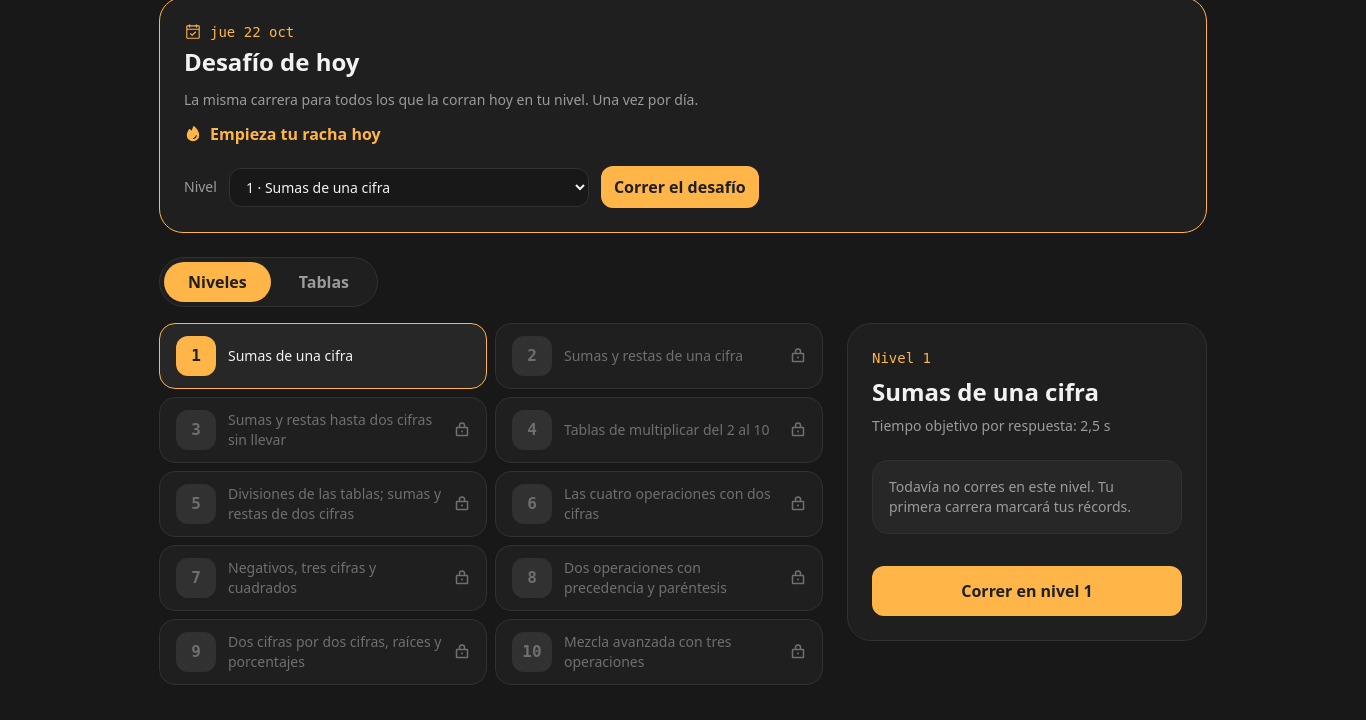
Test: App › Escape abre la confirmación; salir no cambia las estadísticas
The width and height of the screenshot is (1366, 720).
(page scrolled)
Click the button "Correr en nivel 1": coordinates (1027, 591) [872,566,1182,616]
(page scrolled)
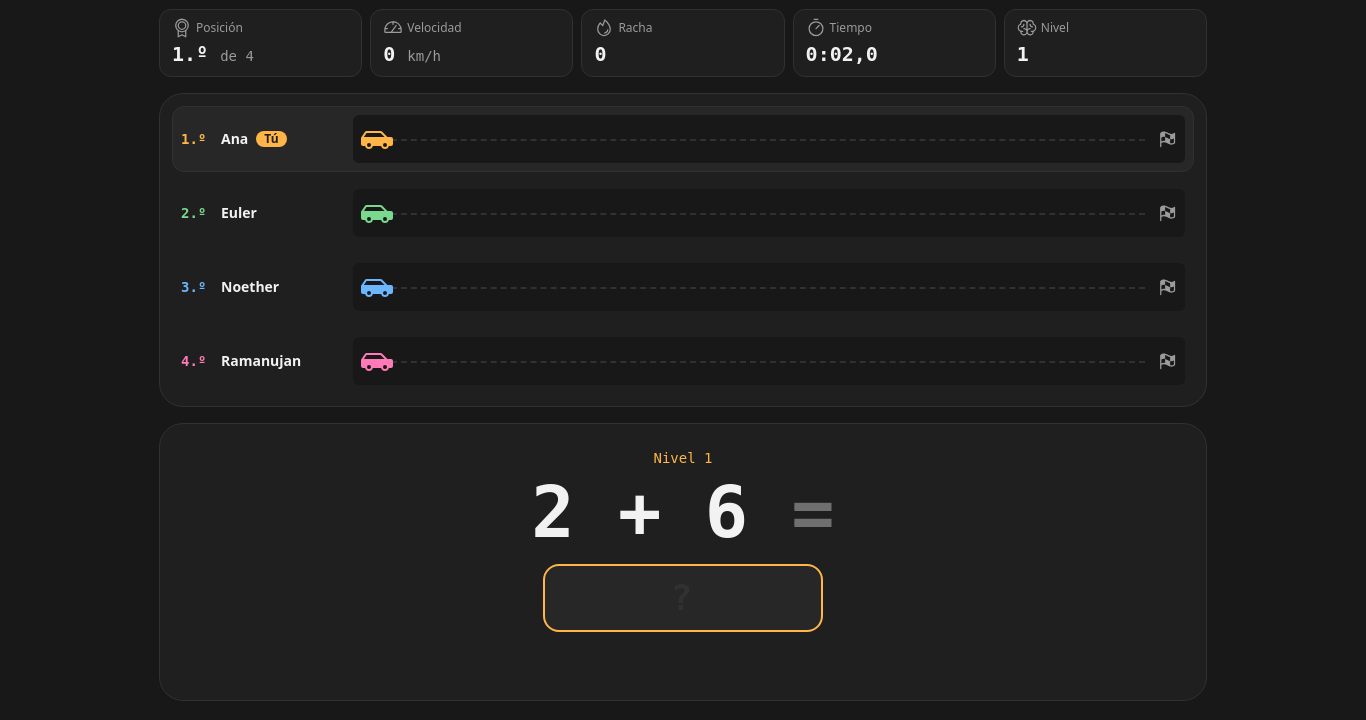
Press Escape
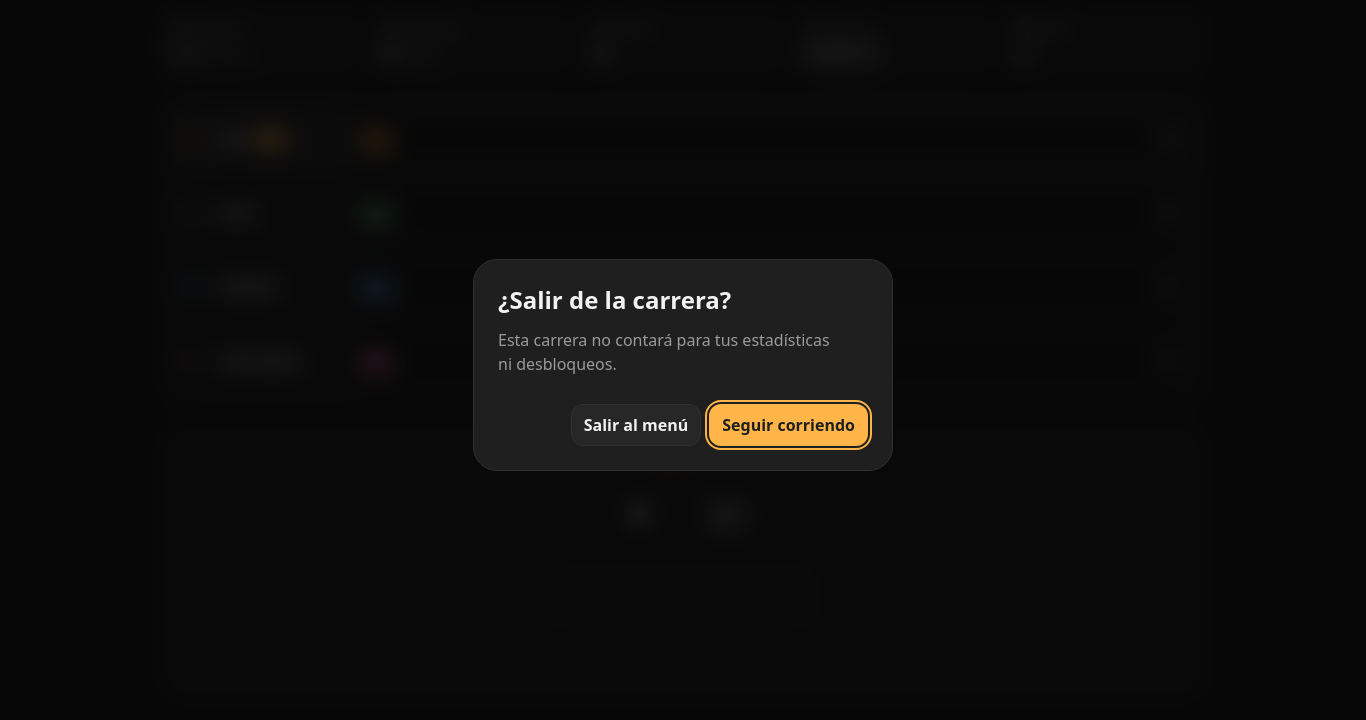
Result: the dialog "Salir de la carrera" is shown at [473,259,893,471]
Click the button "Salir al menú": coordinates (636, 425) [571,404,701,446]
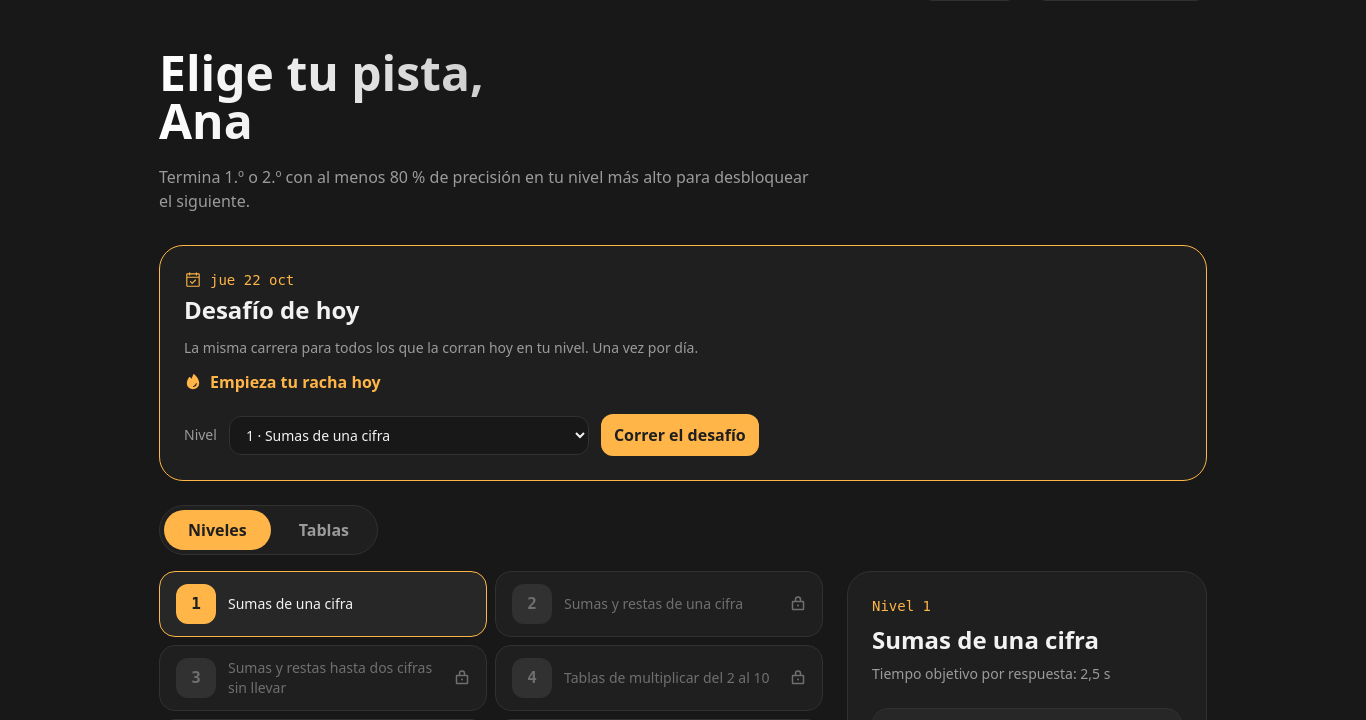
Result: the heading "Elige tu pista,Ana" is shown at [159,49,839,149]
